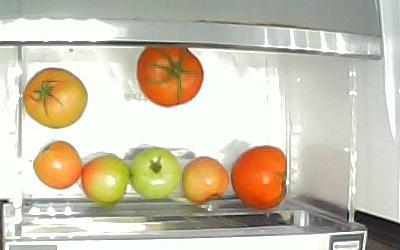tomato: (137, 45, 203, 108), (22, 68, 88, 128), (231, 143, 288, 208), (130, 146, 182, 200), (32, 140, 82, 190), (81, 154, 129, 203), (182, 156, 229, 205)
